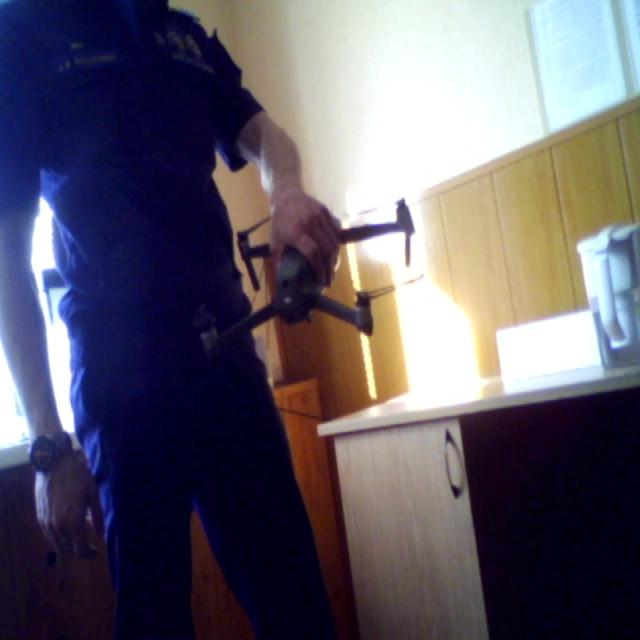drone: (176, 172, 438, 371)
